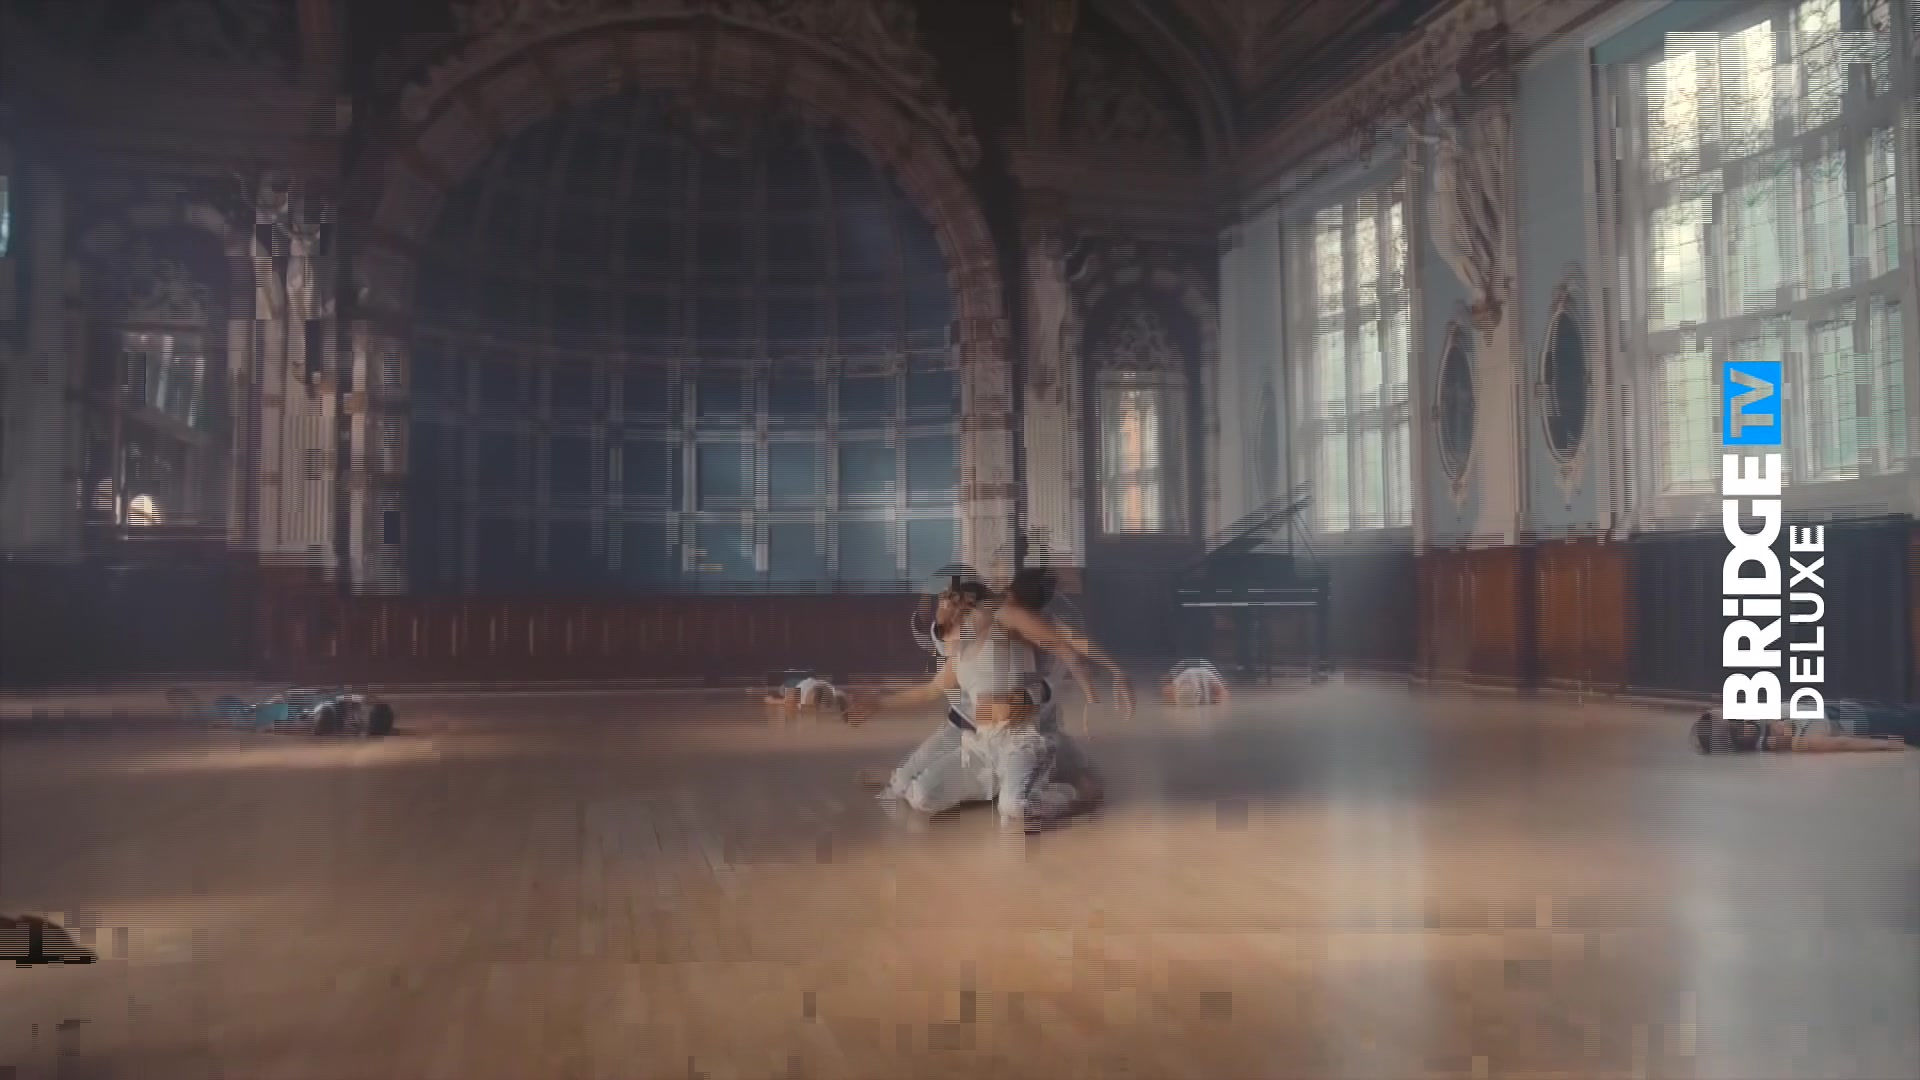Bridge_TV_Deluxe: (1716, 353, 1834, 728)
